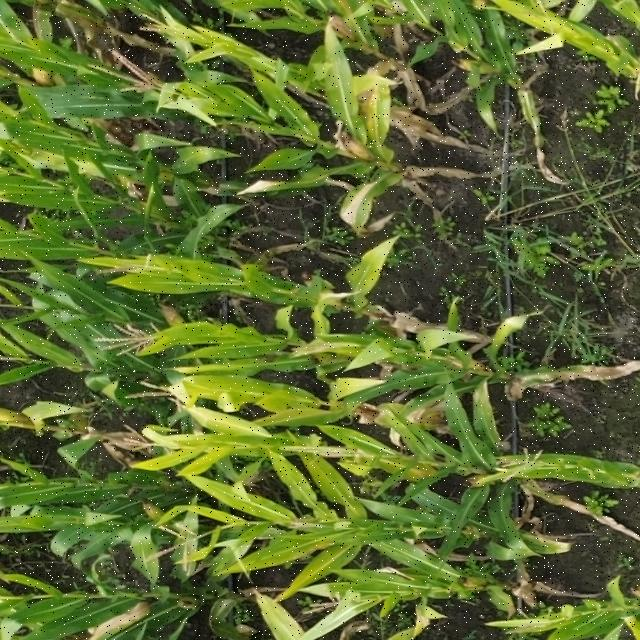gray-leaf-spot: (469, 390, 495, 424), (522, 536, 560, 554)
northern-leaf-blight: (342, 177, 383, 230), (246, 171, 308, 196)
